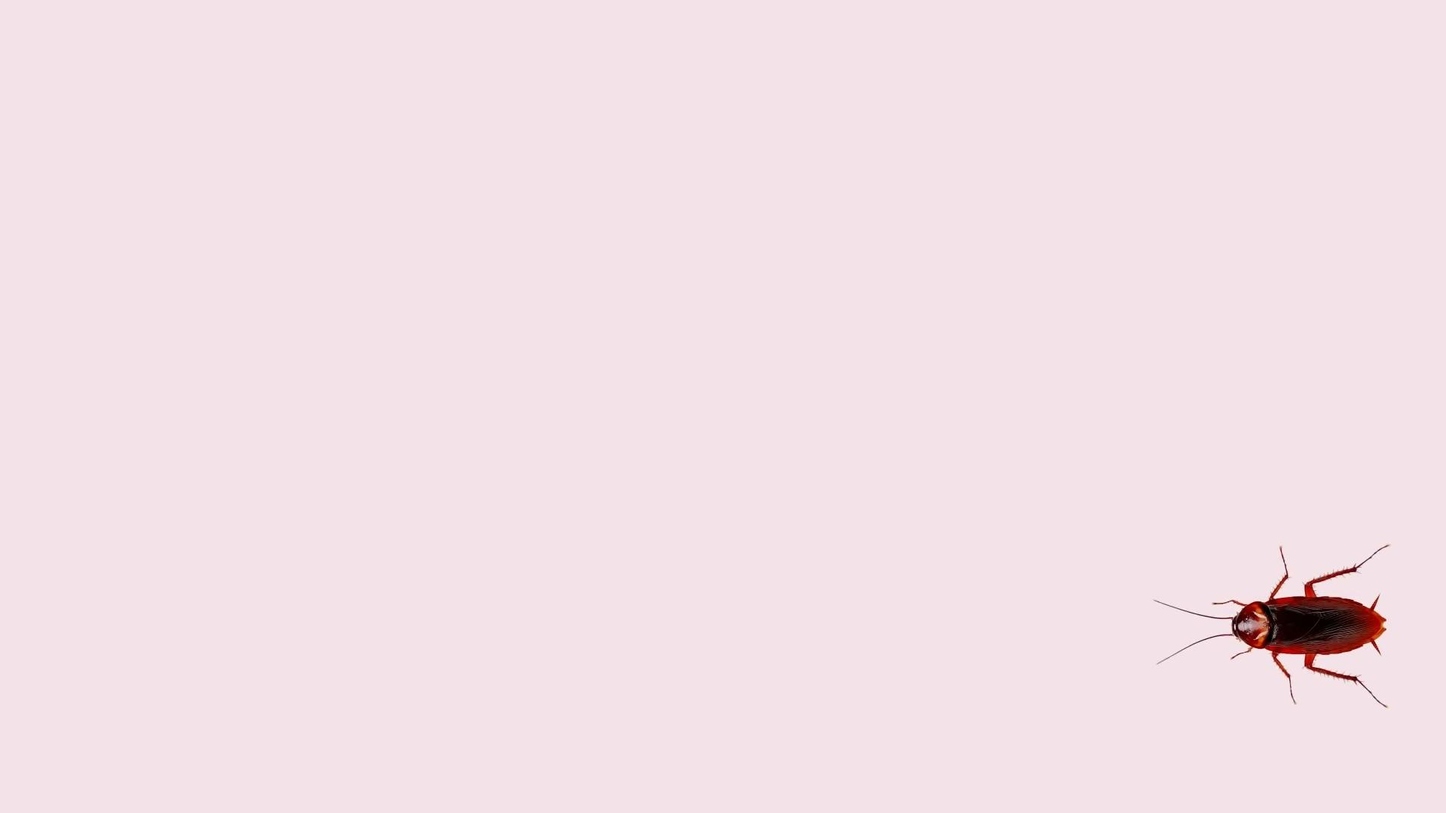cockroach: (1141, 571, 1390, 691)
